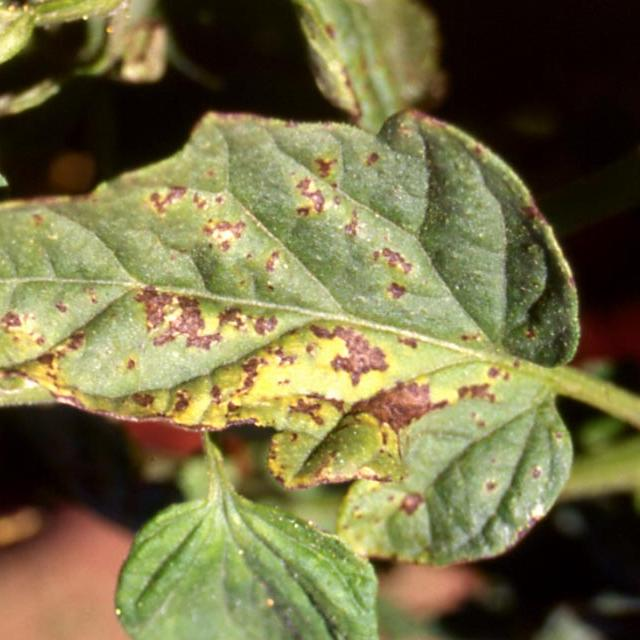Tomato leaf bacterial spot: (0, 102, 605, 562), (98, 447, 415, 640)
